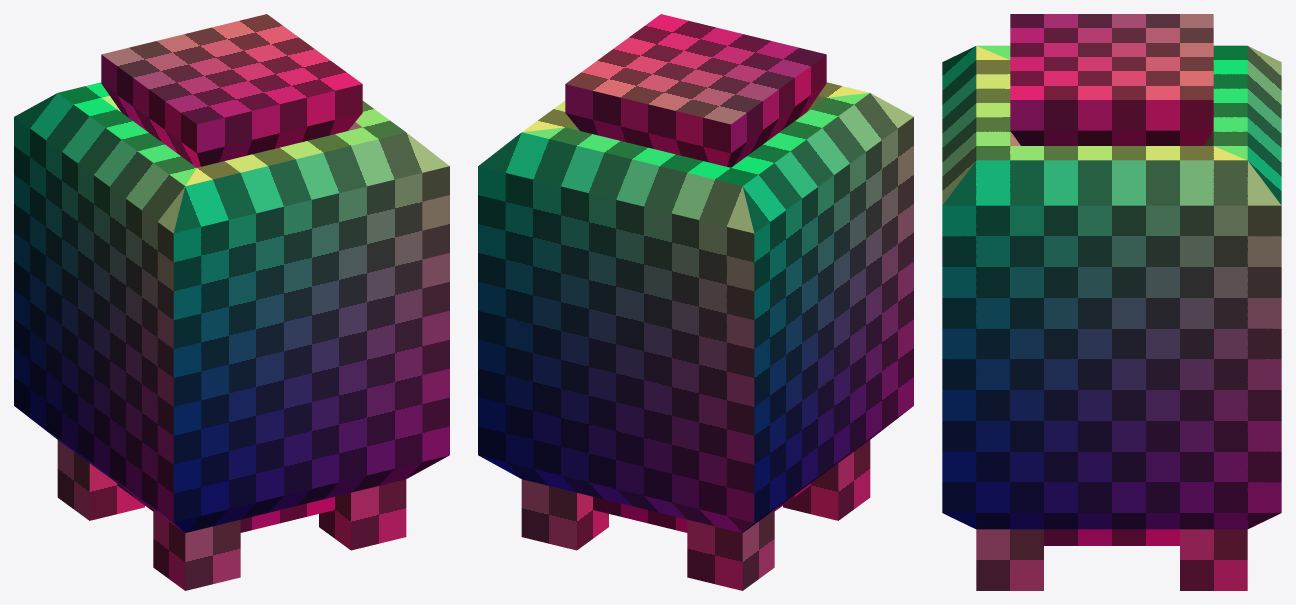
The model's file is materia_vessel.obj.
3 views of the same model, side by side, from view 1: azimuth 30°, elevation 25°; view 2: azimuth 150°, elevation 25°; view 3: azimuth 270°, elevation 25° (orthographic). The views are drawn at different scales.
Parts seen in each view (by area): view 1: MATERIA_VESSEL_Cube.010; view 2: MATERIA_VESSEL_Cube.010; view 3: MATERIA_VESSEL_Cube.010.
Boxes of the visible parts, <box> form: MATERIA_VESSEL_Cube.010: <box>14,14,449,590</box>; MATERIA_VESSEL_Cube.010: <box>478,14,913,590</box>; MATERIA_VESSEL_Cube.010: <box>942,14,1281,590</box>.
Size of the model in its own units: 0.625 by 0.9688 by 0.625.
